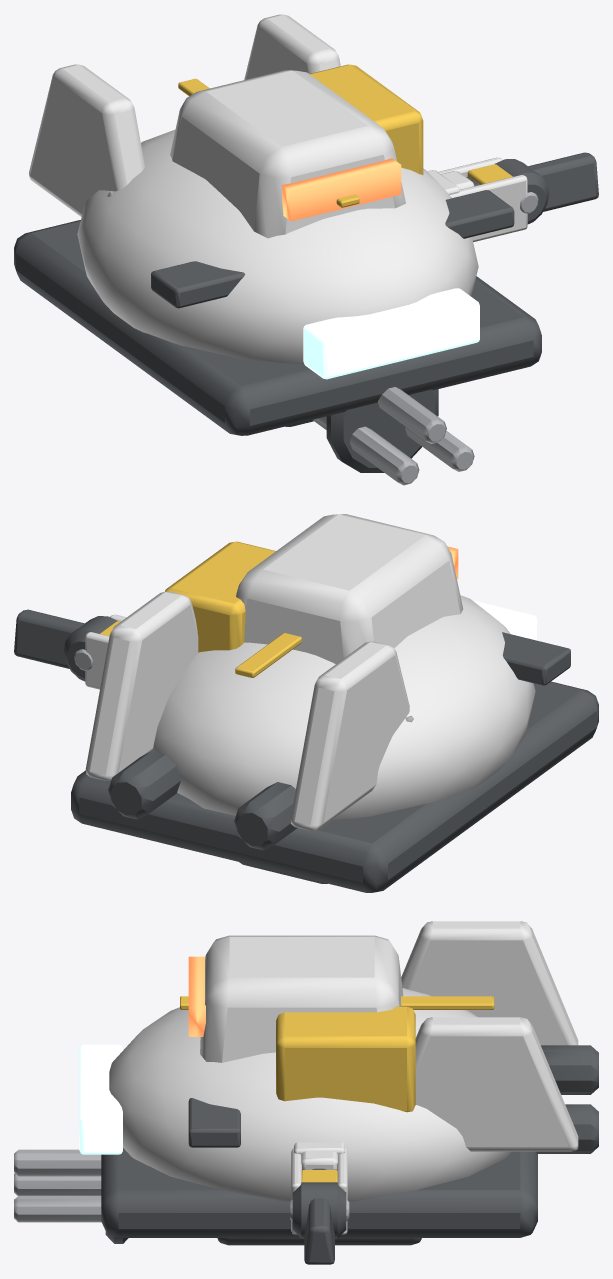
File: burst.glb
3 renders of one model, top to bottom at view 1: azimuth 30°, elevation 25°; view 2: azimuth 150°, elevation 25°; view 3: azimuth 270°, elevation 25°, orthographic. The views are drawn at different scales.
Visible parts, largest first — view 1: Hull, Turret, Barrel, LegUpper, LegLower; view 2: Hull, Turret, LegLower, LegUpper; view 3: Hull, Turret, Barrel, LegUpper, LegLower.
Boxes of the visible parts, left/top/right/bottom form: Hull: left=14, top=14, right=541, bottom=435; Turret: left=170, top=64, right=423, bottom=238; Barrel: left=285, top=387, right=474, bottom=485; LegUpper: left=427, top=157, right=549, bottom=241; LegLower: left=441, top=152, right=598, bottom=211; Hull: left=71, top=591, right=598, bottom=892; Turret: left=164, top=514, right=463, bottom=663; LegLower: left=14, top=609, right=119, bottom=668; LegUpper: left=63, top=614, right=126, bottom=689; Hull: left=79, top=921, right=598, bottom=1237; Turret: left=188, top=935, right=415, bottom=1112; Barrel: left=14, top=1149, right=421, bottom=1245; LegUpper: left=290, top=1142, right=349, bottom=1238; LegLower: left=301, top=1151, right=337, bottom=1264.
Size of the model in its own units: 0.615 by 0.355 by 0.67.
